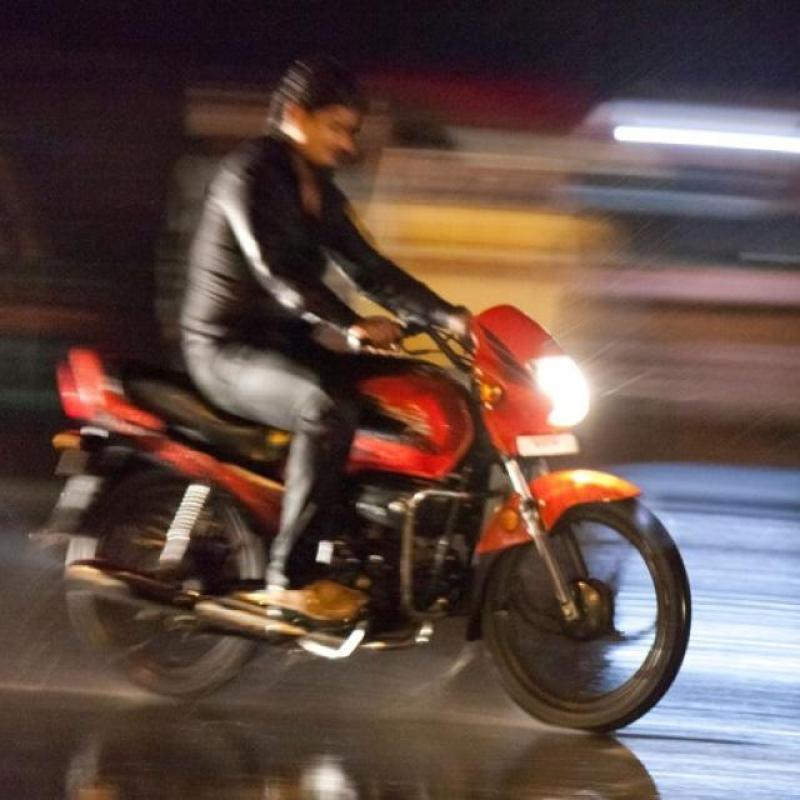nohelmet: (261, 52, 370, 180)
